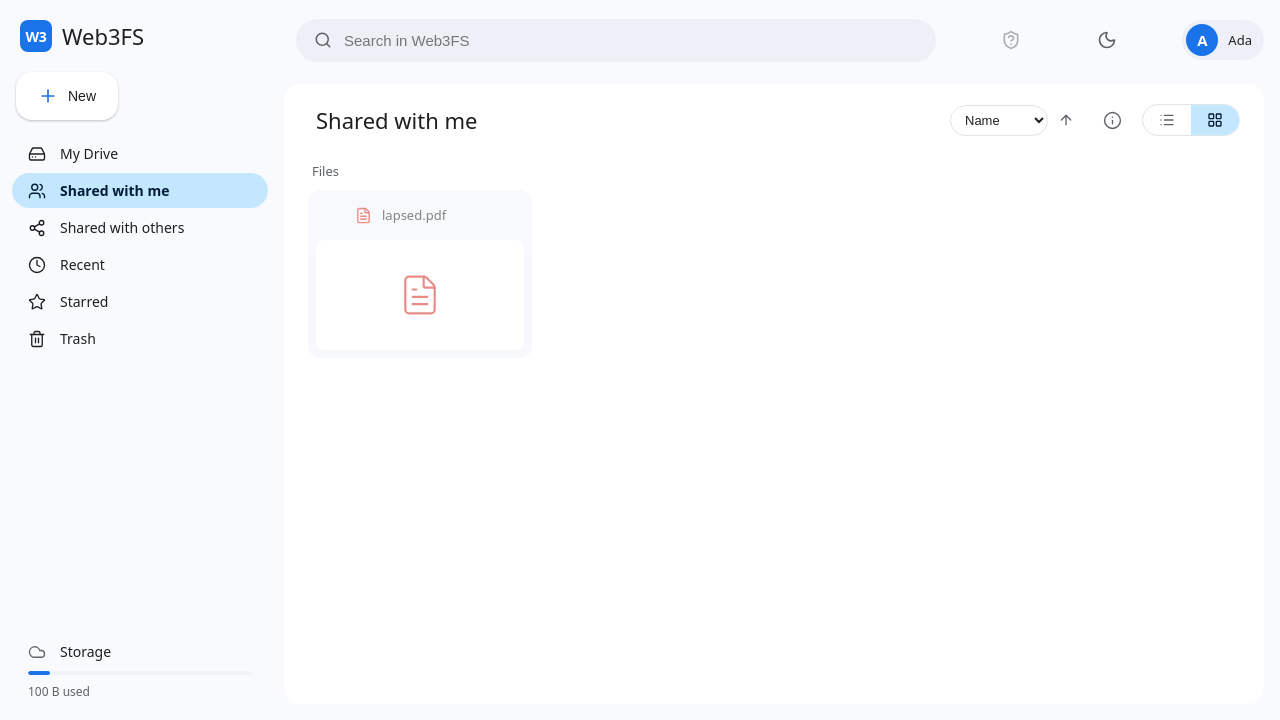
the context menu on an expired share offers only the request
Right-click the element showing "lapsed.pdf" at (420, 274), box x1=308 y1=190 x2=532 y2=358
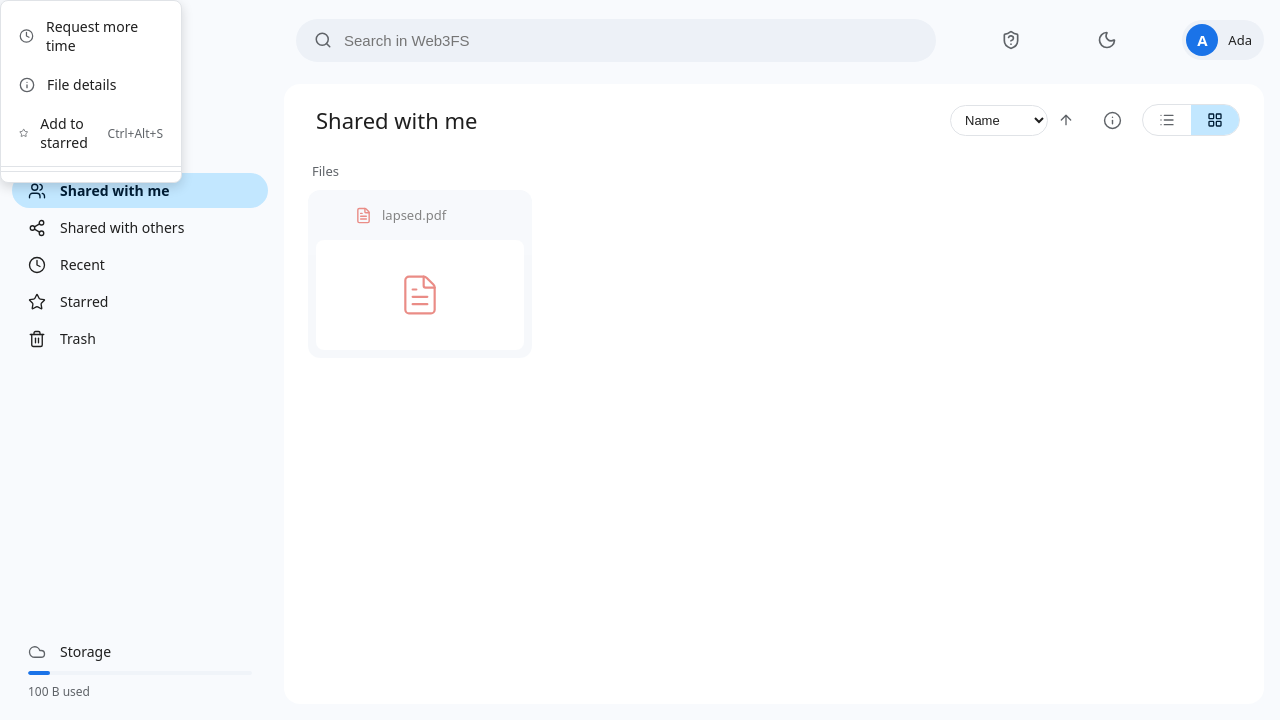
Expected: the text "Request more time" is shown, x1=19 y1=17 x2=138 y2=55
